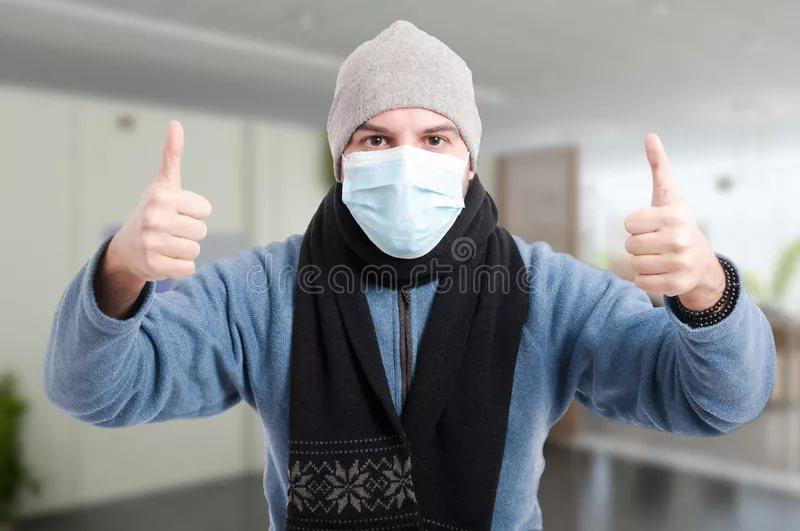mask: (331, 95, 471, 259)
